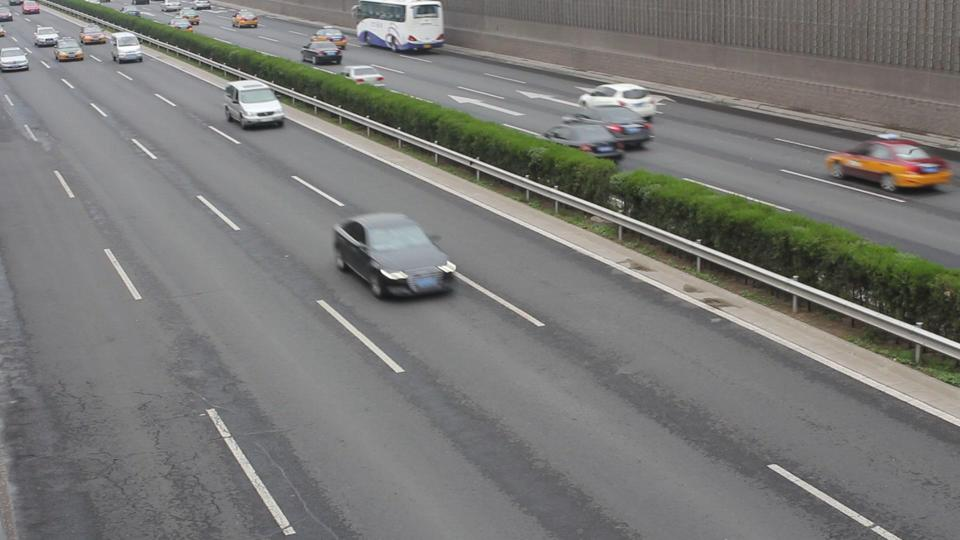Bus: (354, 1, 445, 52)
Car: (331, 214, 453, 297), (825, 134, 941, 193), (531, 119, 620, 162), (564, 105, 649, 143), (576, 83, 654, 118), (338, 65, 384, 90), (300, 40, 340, 65), (308, 25, 345, 49), (54, 36, 84, 62), (1, 47, 29, 71), (232, 10, 257, 28), (167, 17, 192, 34)
Minivan: (223, 82, 284, 127), (109, 32, 142, 63)
